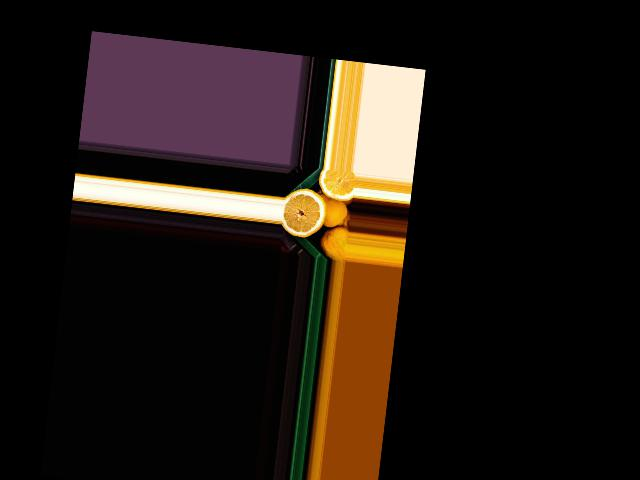lemon: (316, 192, 350, 228)
